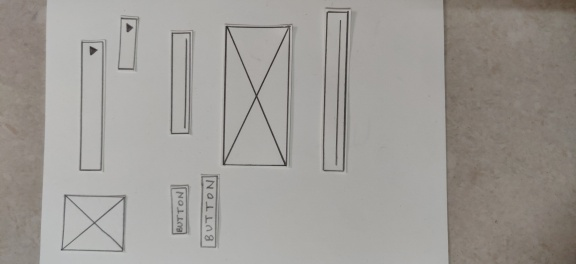button: (198, 171, 220, 246), (170, 185, 187, 234)
dropdown: (80, 42, 104, 171), (117, 11, 139, 73)
img: (225, 22, 291, 166), (60, 195, 125, 249)
text: (323, 7, 350, 173), (167, 29, 193, 134)
